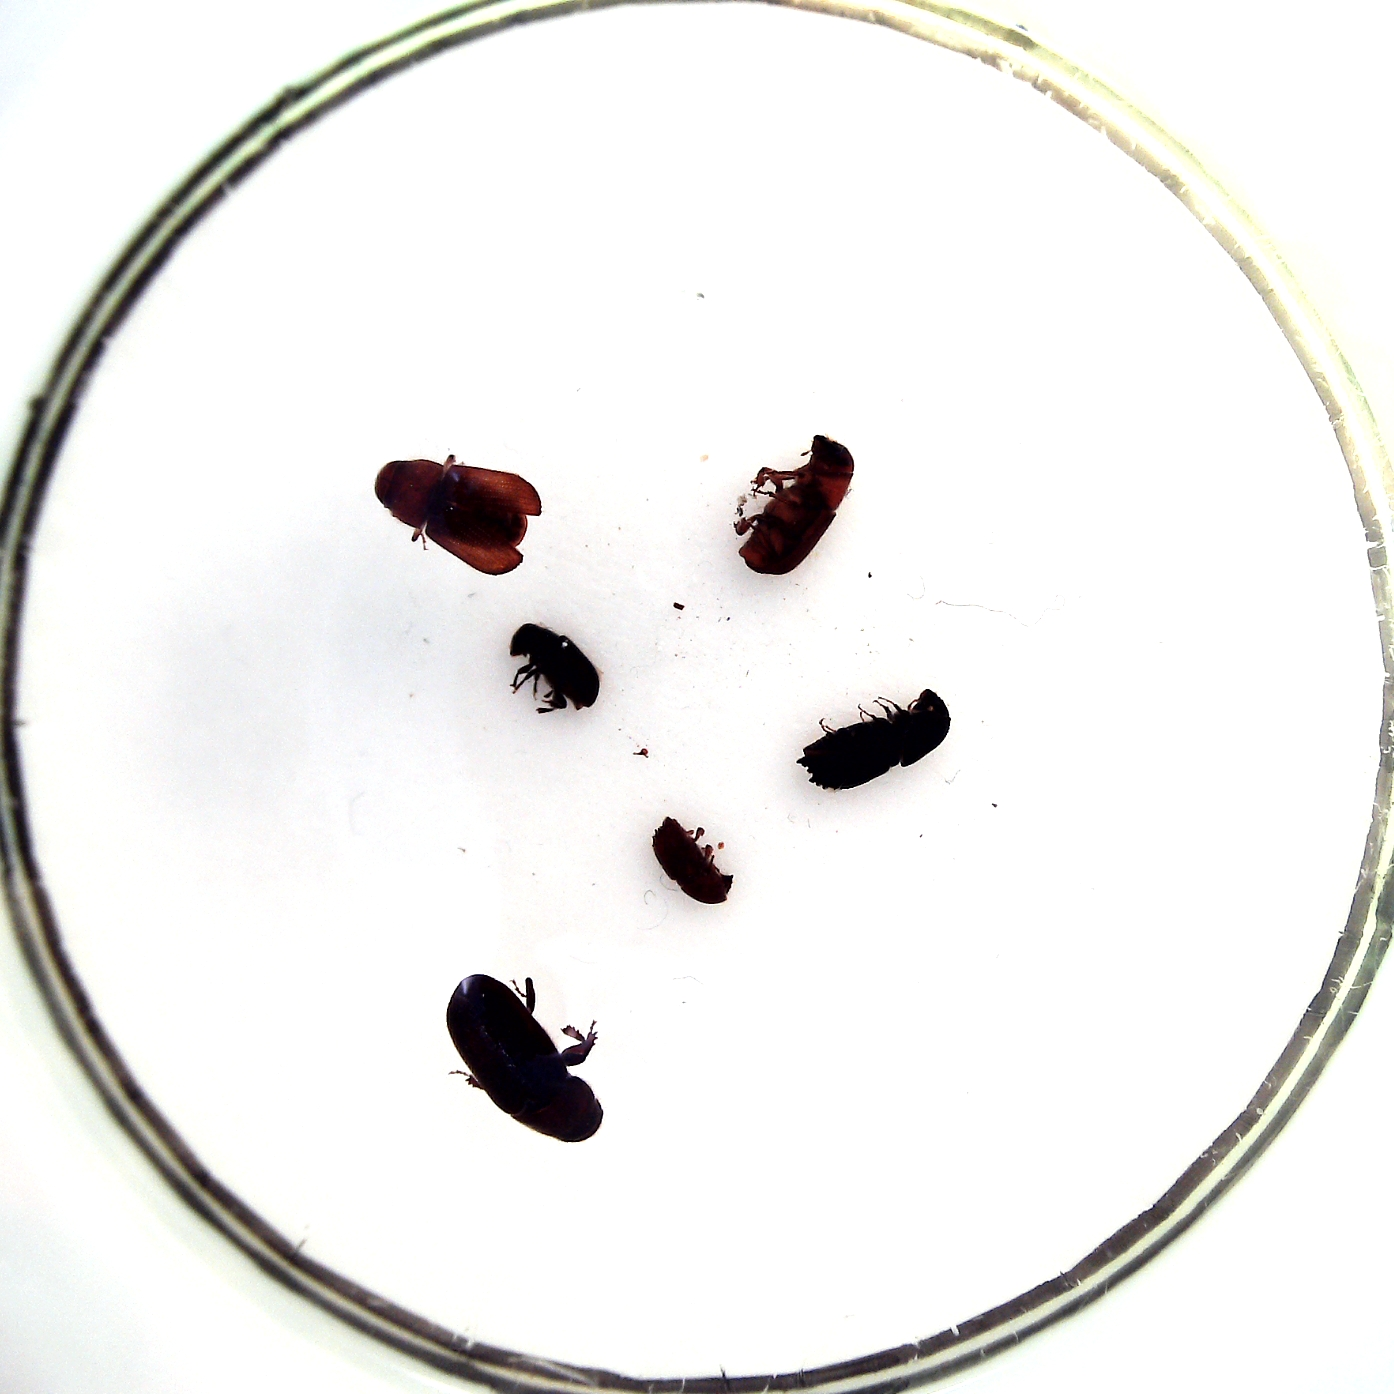Boerner: (798, 687, 954, 789)
Leconte: (446, 971, 604, 1143), (738, 435, 855, 574), (375, 460, 528, 554)
armandi: (509, 622, 600, 714)
linnaeus: (652, 818, 731, 904)
